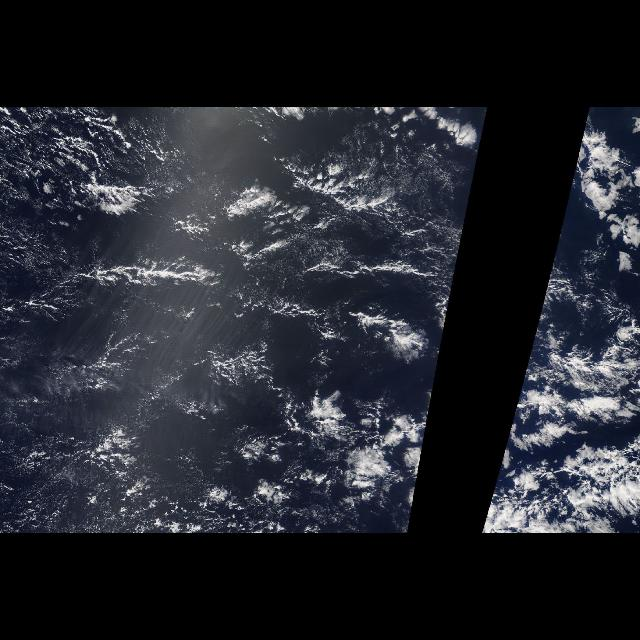Fish: (6, 147, 460, 387), (506, 445, 638, 533)
Sugar: (5, 398, 164, 532)
